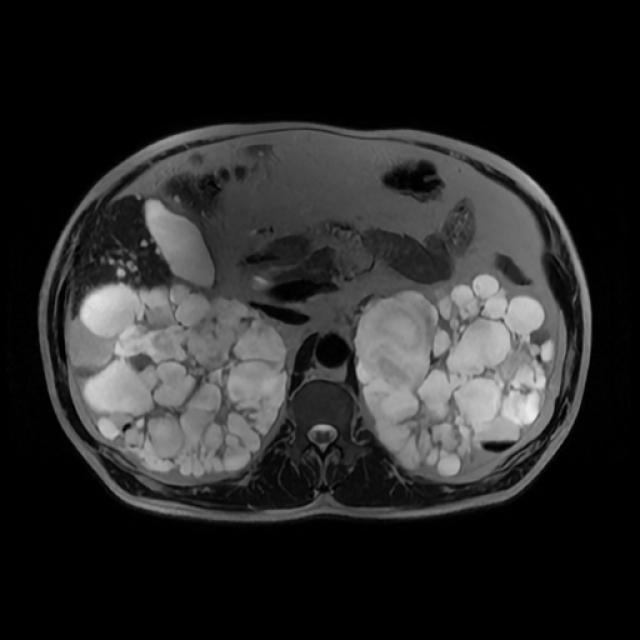sag: (72, 282, 286, 476)
sol: (356, 274, 554, 475)
